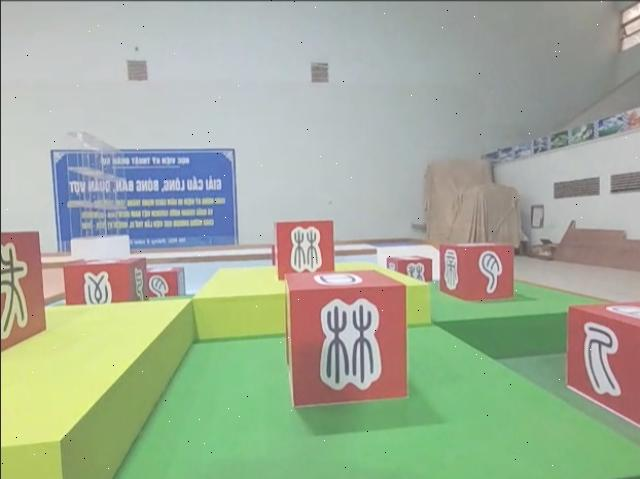R2 Fake: (281, 268, 410, 410), (563, 296, 640, 432), (0, 227, 44, 365), (62, 248, 149, 309), (271, 217, 340, 283), (438, 244, 512, 301), (138, 262, 188, 307)
